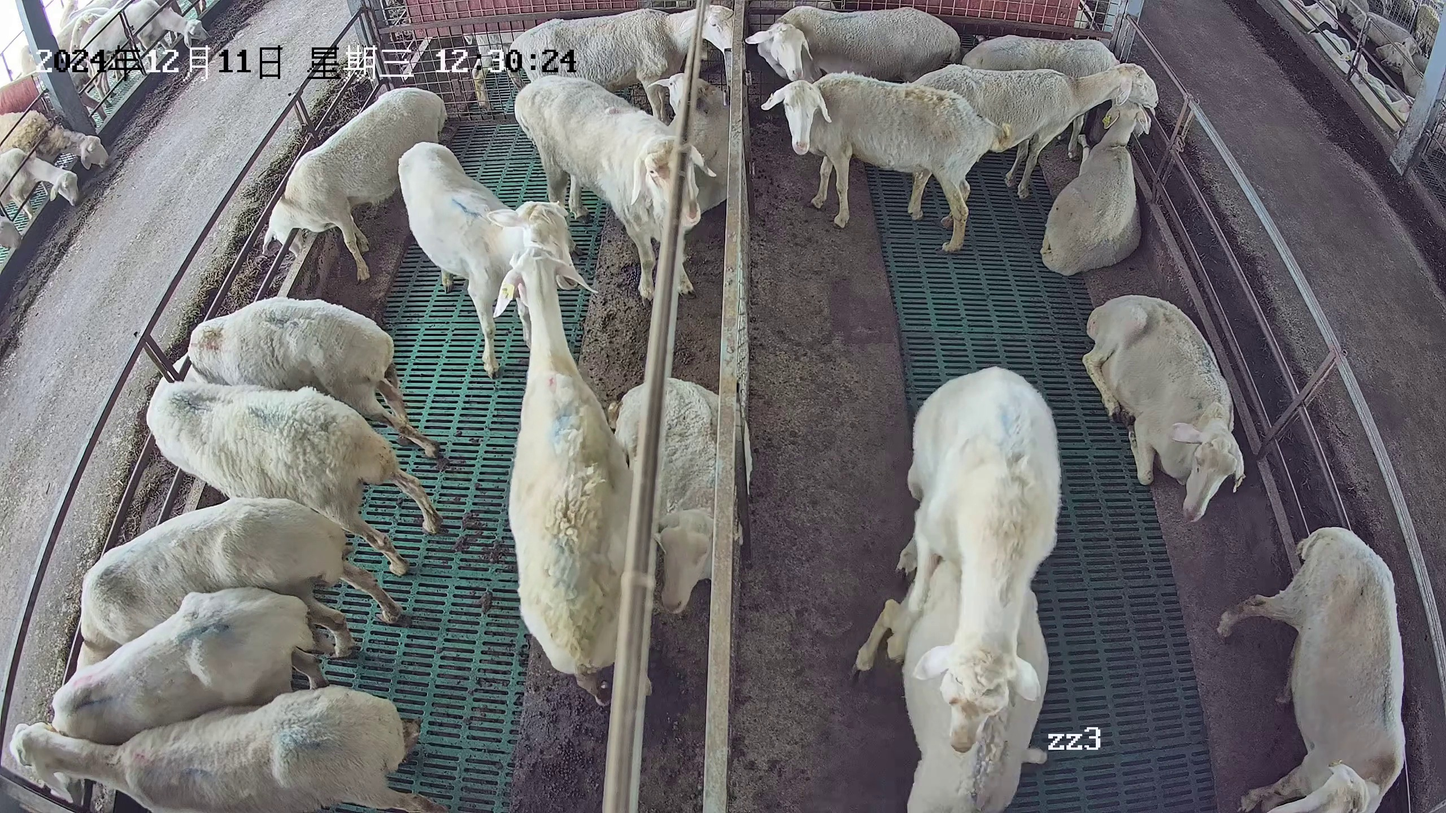Smounting: (850, 362, 1064, 813)
mounted: (853, 557, 1052, 813)
